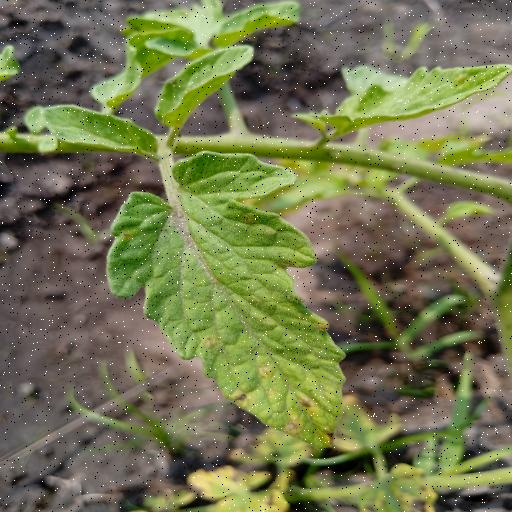Tomato_Brown_Spots: (102, 150, 352, 452)
